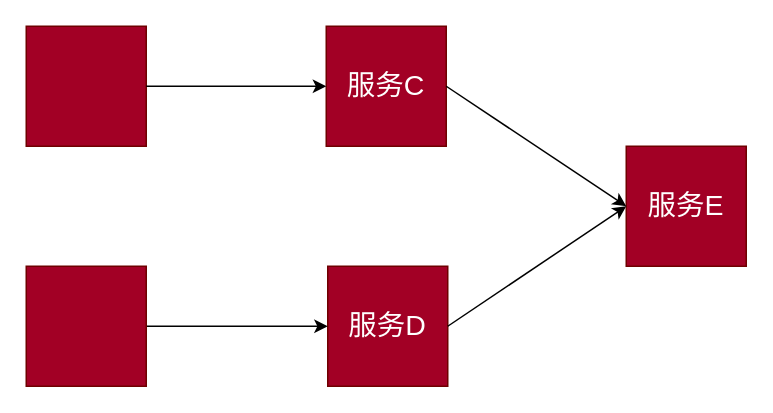
The diagram is 773 pixels wide and 413 high, and some of its shapes have lost their labels. The shapes that lost their labels are listed below. From the top down, each one's centre as x and y in pixels, then its label:
At point (85, 85): "服务A".
At point (85, 325): "服务B".
